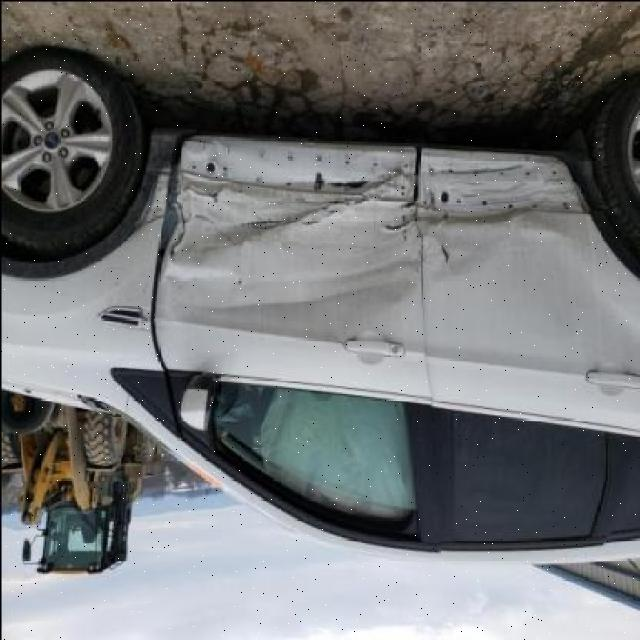damage: (131, 126, 597, 320)
